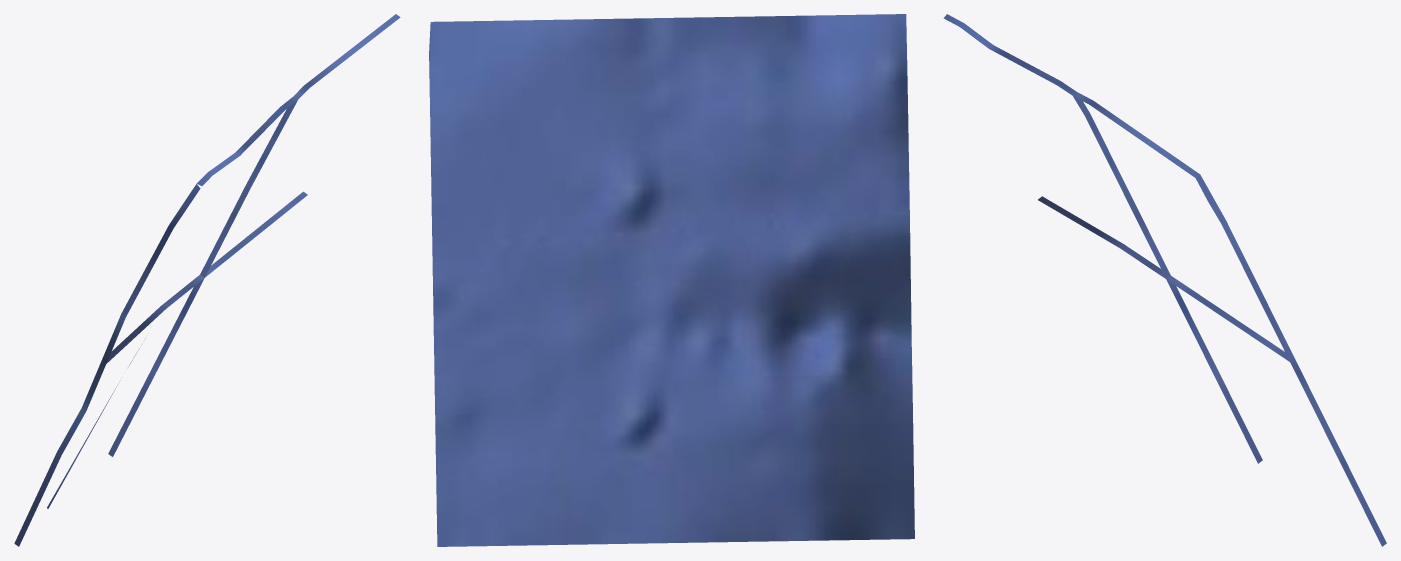
3 renders of one model, left to right at view 1: azimuth 30°, elevation 25°; view 2: azimuth 150°, elevation 25°; view 3: azimuth 270°, elevation 25°, orthographic. The views are drawn at different scales.
Size of the model in its own units: 19412 by 18040 by 17051.
Materials: 1 (1 with a texture image).
